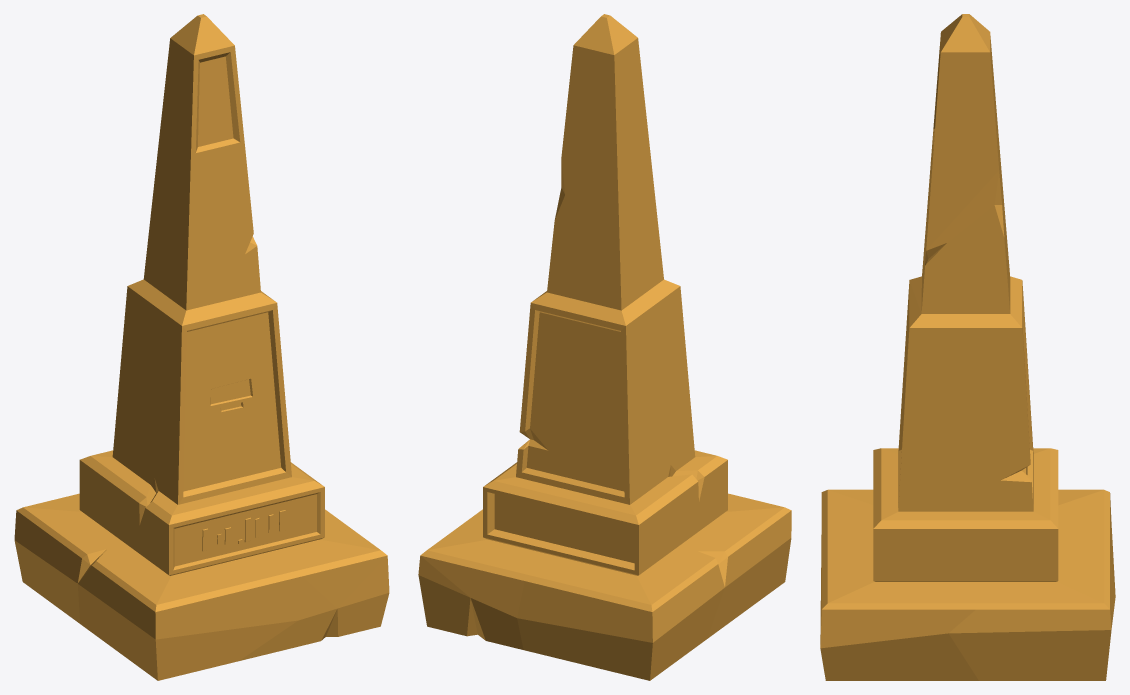
Rendered from gravestone-old-tower.fbx.
The picture shows the model from 3 angles, left to right: view 1: azimuth 30°, elevation 25°; view 2: azimuth 150°, elevation 25°; view 3: azimuth 270°, elevation 25°; orthographic projection. The views are drawn at different scales.
Visible parts, largest first — view 1: gravestone-old-tower; view 2: gravestone-old-tower; view 3: gravestone-old-tower.
Boxes of the visible parts, <box> form: gravestone-old-tower: <box>14,14,389,680</box>; gravestone-old-tower: <box>418,14,791,680</box>; gravestone-old-tower: <box>820,14,1115,680</box>.
Size of the model in its own units: 0.7516 by 1.74 by 0.7622.
